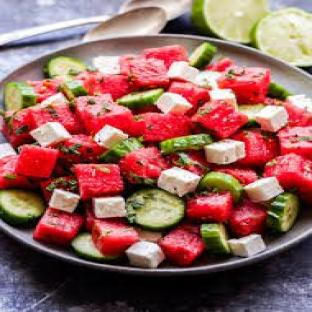Cucumber: (127, 188, 185, 231), (0, 189, 45, 226), (71, 233, 119, 261), (199, 172, 243, 202), (267, 193, 298, 232), (99, 138, 142, 163), (160, 134, 213, 154), (117, 88, 164, 109), (45, 57, 87, 80), (201, 223, 229, 254), (4, 83, 36, 110), (189, 43, 216, 69), (239, 105, 264, 126), (61, 80, 88, 99), (268, 83, 290, 99)
